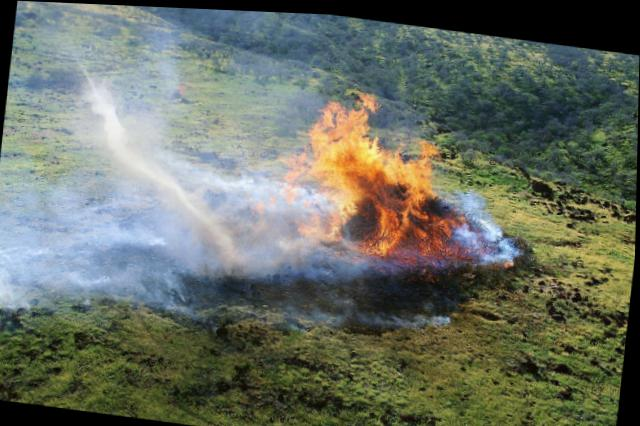fire: (374, 189, 428, 254), (313, 130, 389, 176), (419, 209, 459, 259), (322, 101, 373, 136), (416, 140, 439, 193), (385, 149, 421, 181), (337, 173, 365, 212), (360, 90, 380, 106)
